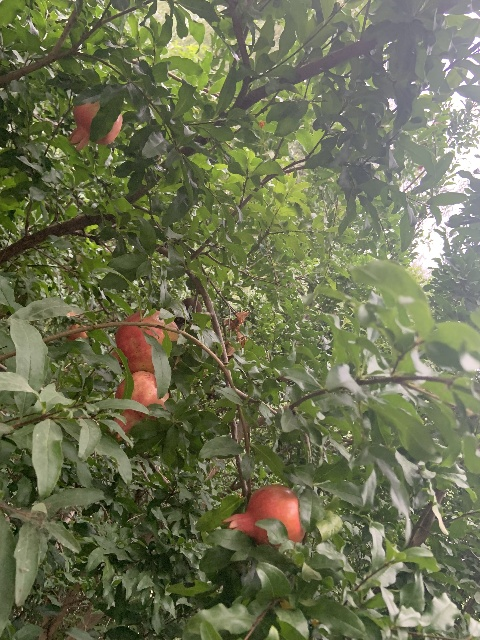ripe: (221, 484, 305, 547), (110, 310, 178, 374), (108, 371, 168, 441), (67, 101, 122, 151)
